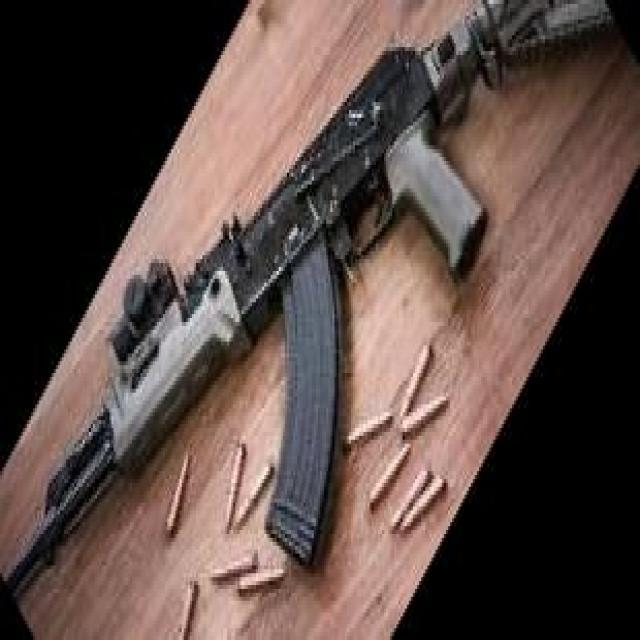weapon: (2, 0, 612, 602)
